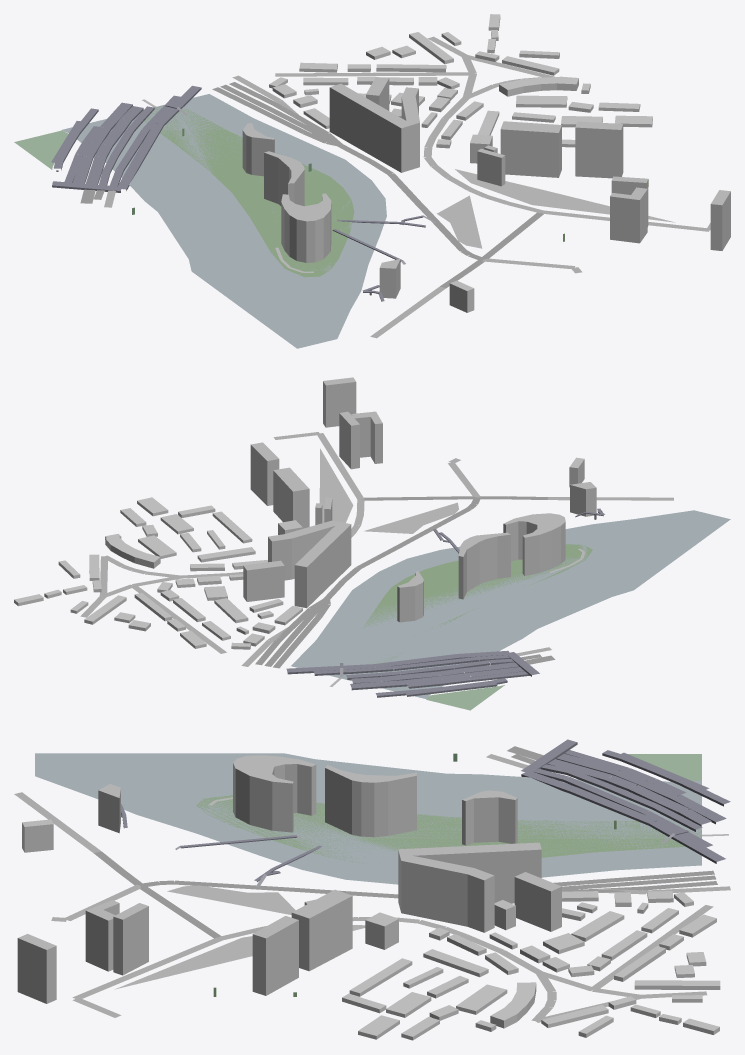
3 views of the same model, one above another, from view 1: azimuth 30°, elevation 25°; view 2: azimuth 150°, elevation 25°; view 3: azimuth 270°, elevation 25° (orthographic). The views are drawn at different scales.
Bounding box in the file's own units: 532 × 50.81 × 537.
